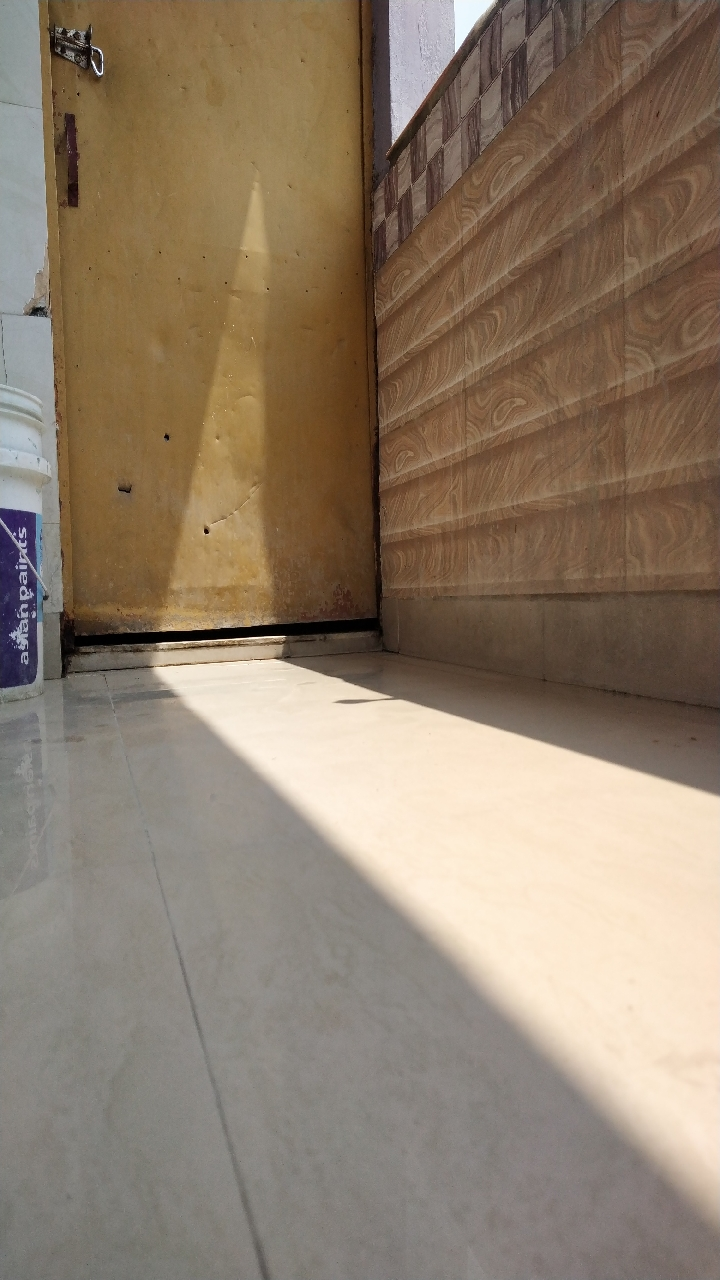Doors: (51, 298, 418, 677)
